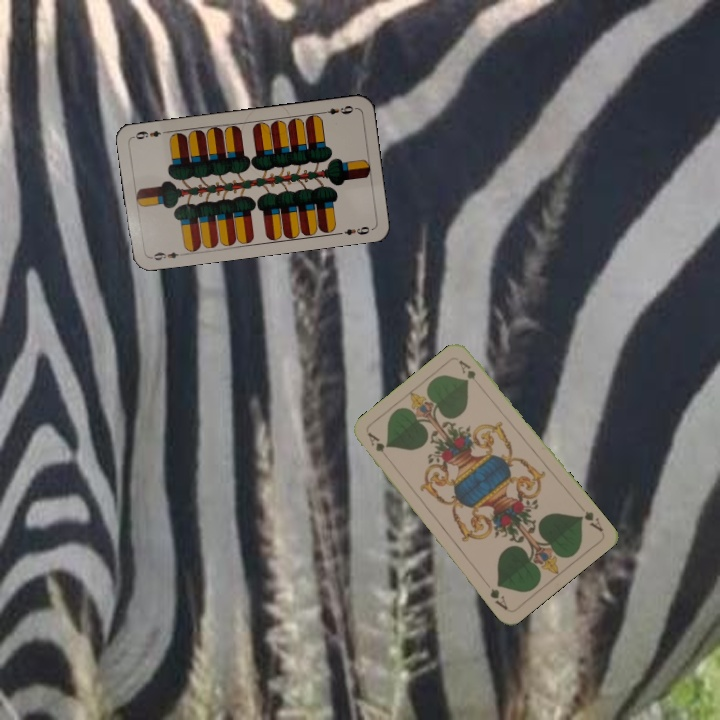E9: (317, 101, 358, 117), (146, 248, 187, 263)
GA: (575, 507, 606, 535), (363, 428, 389, 460)
